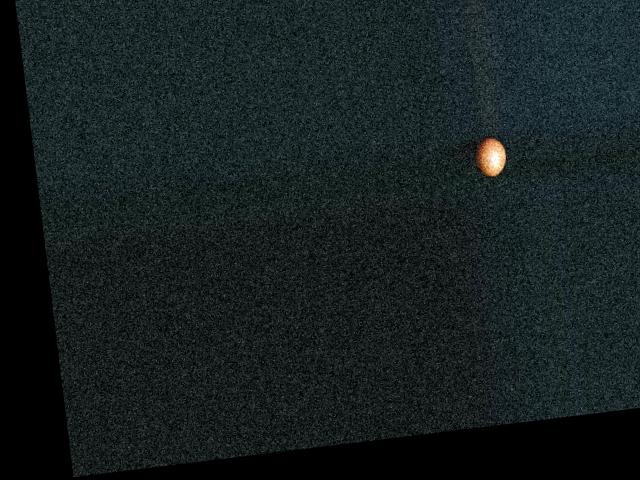egg: (472, 135, 507, 177)
